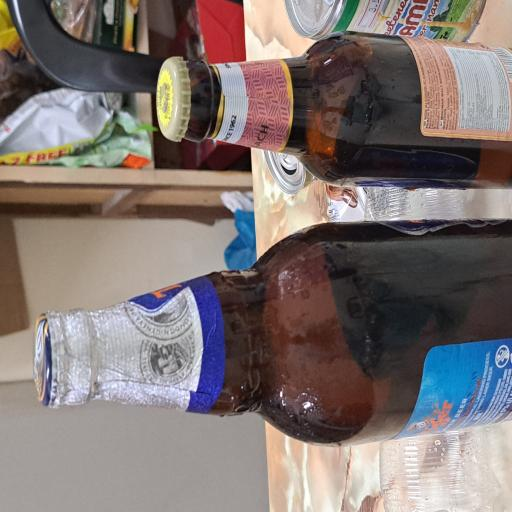can: (352, 375, 384, 512), (240, 345, 272, 416)
glass bottle: (50, 43, 221, 512)
